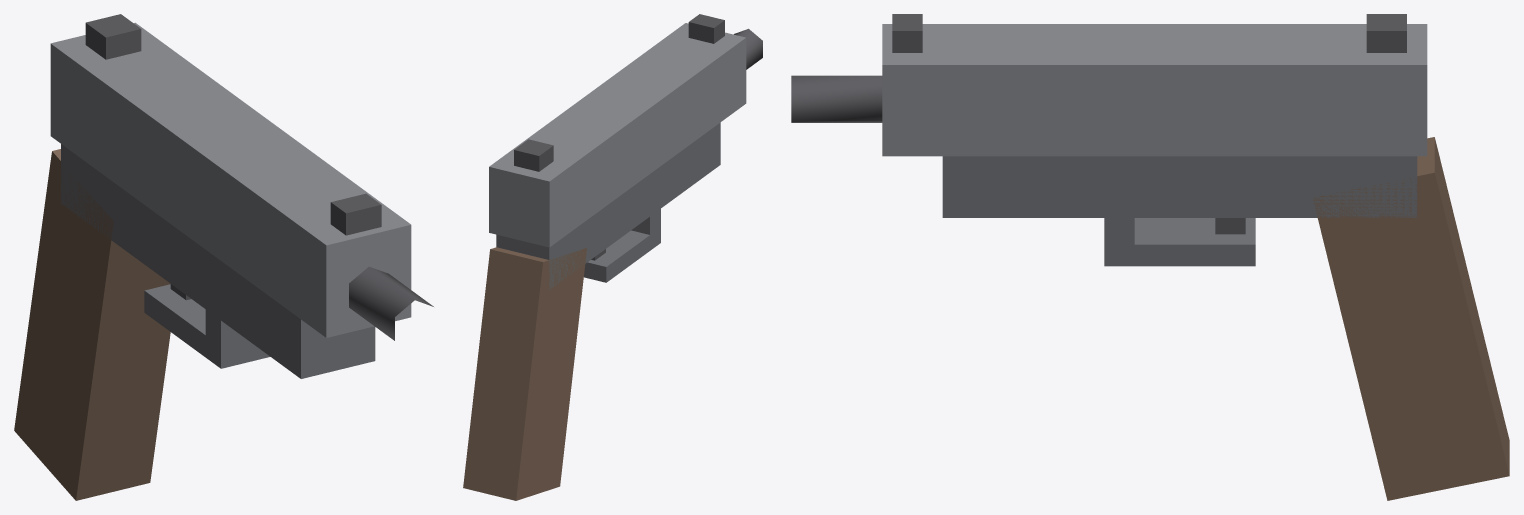
Rendered from pistola.glb.
The picture shows the model from 3 angles, left to right: view 1: azimuth 30°, elevation 25°; view 2: azimuth 150°, elevation 25°; view 3: azimuth 270°, elevation 25°; orthographic projection. The views are drawn at different scales.
Parts seen in each view (by area): view 1: weapon_body; view 2: weapon_body; view 3: weapon_body.
Part boxes in pixels (bbox=[...]): weapon_body: bbox=[14, 14, 433, 500]; weapon_body: bbox=[463, 14, 762, 500]; weapon_body: bbox=[791, 14, 1509, 500].
Bounding box in the file's own units: 0.072 × 0.3776 × 0.5337.
